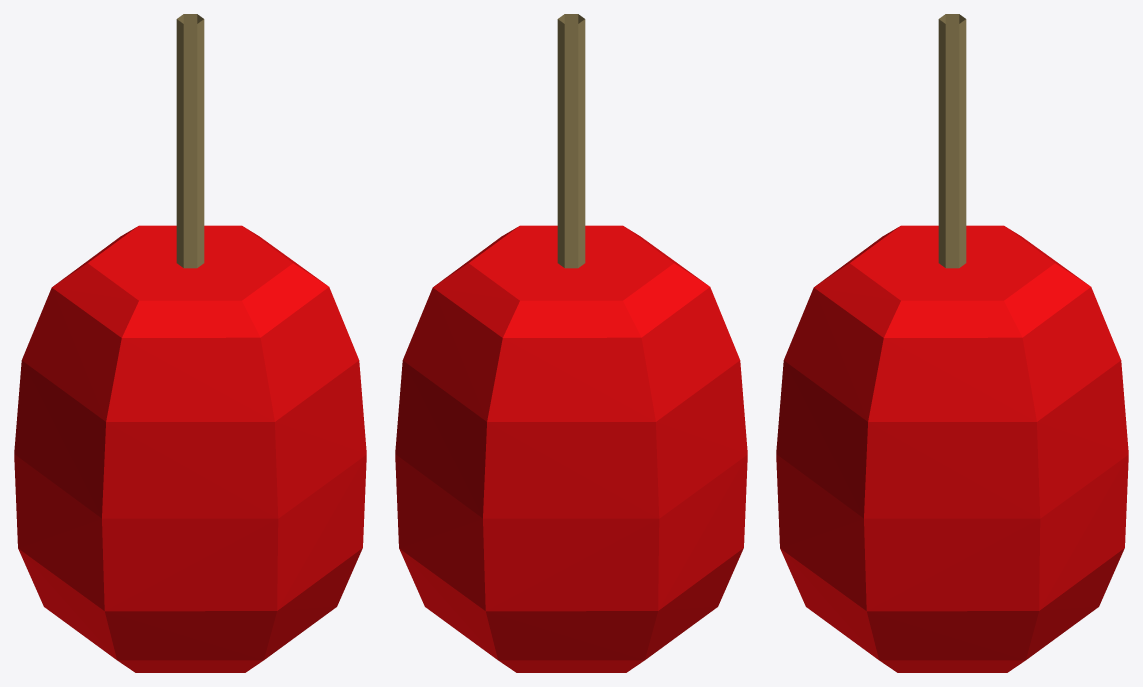
File: Paper_Lamp_2 Asia.fbx
3 renders of one model, left to right at view 1: azimuth 30°, elevation 25°; view 2: azimuth 150°, elevation 25°; view 3: azimuth 270°, elevation 25°, orthographic.
Visible parts, largest first — view 1: Paper_Lamp_2; view 2: Paper_Lamp_2; view 3: Paper_Lamp_2.
Part boxes in pixels (x1,y1,x2,y2): Paper_Lamp_2: (14,14,366,672); Paper_Lamp_2: (395,14,747,672); Paper_Lamp_2: (776,14,1128,672).
Size of the model in its own units: 0.2229 by 0.4936 by 0.257.
